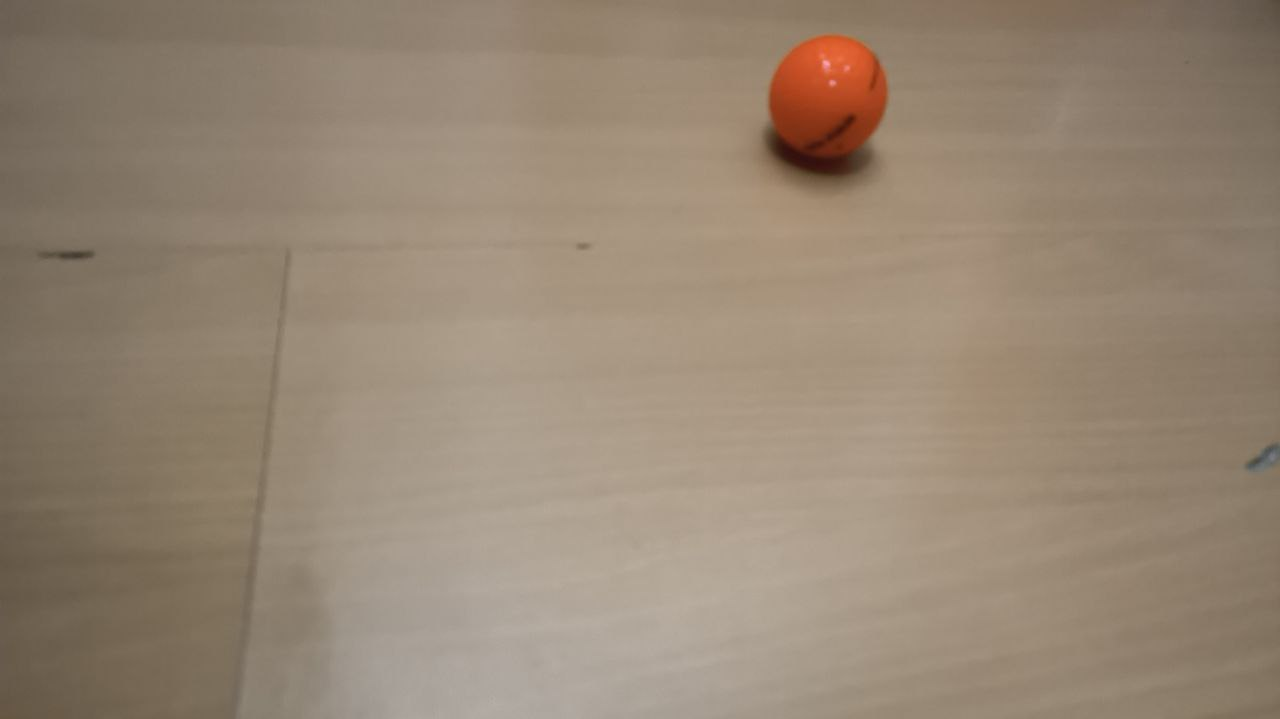orange_ball: (769, 34, 888, 159)
